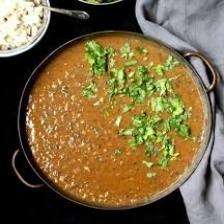dal: (19, 29, 210, 209)
